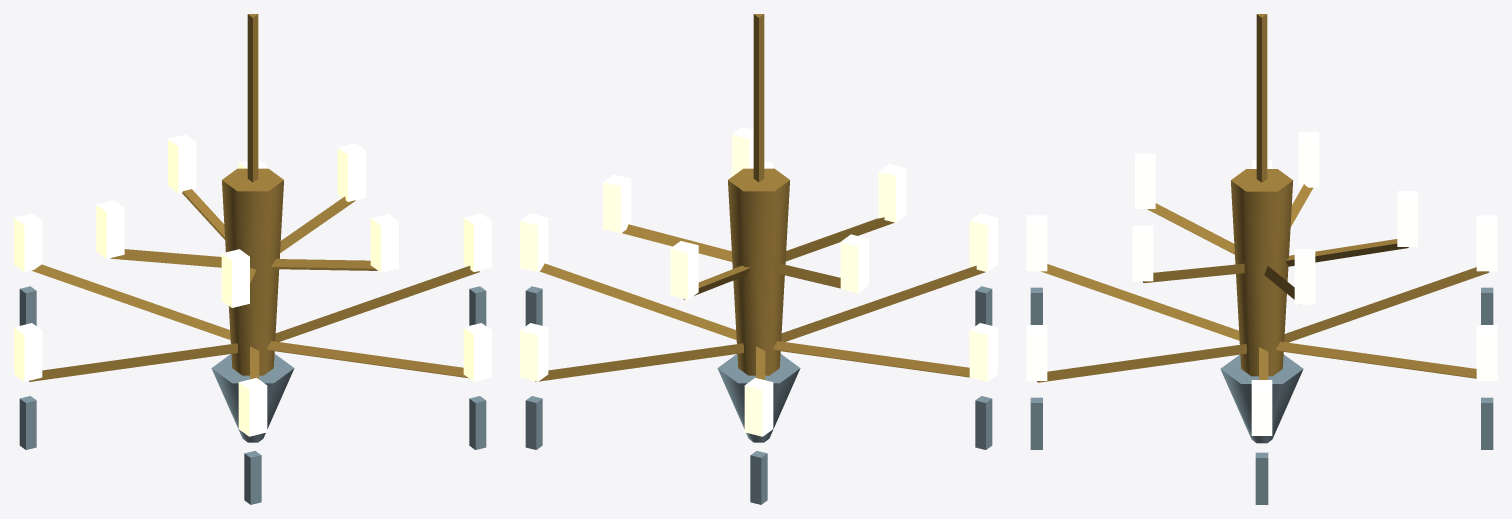
File: chandelier.glb
The picture shows the model from 3 angles, left to right: view 1: azimuth 30°, elevation 25°; view 2: azimuth 150°, elevation 25°; view 3: azimuth 270°, elevation 25°; orthographic projection.
Visible parts, largest first — view 1: chandelier; view 2: chandelier; view 3: chandelier.
Boxes of the visible parts, <box> form: chandelier: <box>14,14,491,504</box>; chandelier: <box>520,14,997,504</box>; chandelier: <box>1026,14,1497,504</box>.
Bounding box in the file's own units: 1.04 × 0.9 × 0.906.
Materials: 1 (1 with a texture image).
